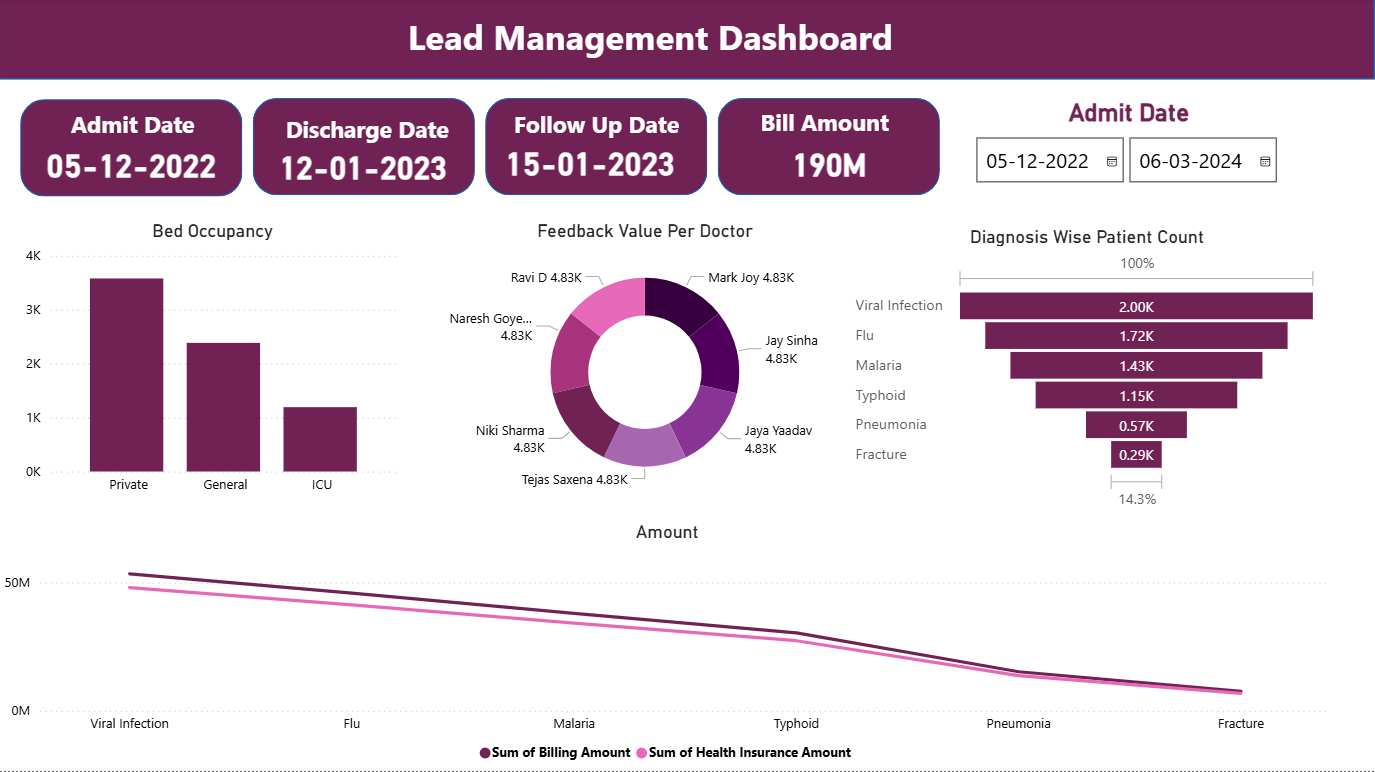

What the dashboard file says about the page in this screenshot:
{"tool":"powerbi","page":{"name":"Page 1","canvas":[1280,720],"ordinal":0},"visuals":[{"type":"shape","box":[0,0,1279.7,75.7],"z":0},{"type":"lineChart","title":"Amount","fields":{"Category":["Sheet1.Diagnosis"],"Y":["Sheet1.Billing Amount","Sheet1.Health Insurance Amount"]},"box":[0,481.1,1243.2,239.2],"z":1000},{"type":"columnChart","title":"Bed Occupancy","fields":{"Category":["Sheet1.Bed_Occupancy"],"Y":["Sheet1.Diagnosis"]},"box":[20.3,201.4,358.1,268.9],"z":2000},{"type":"donutChart","title":"Feedback Value Per Doctor","fields":{"Category":["Sheet1.Doctor"],"Y":["Sheet1.Feedback"]},"box":[410.8,201.4,381.1,268.9],"z":3000},{"type":"funnel","title":"Diagnosis Wise Patient Count","fields":{"Category":["Sheet1.Diagnosis"],"Y":["Sheet1.Diagnosis"]},"box":[791.9,212.2,440.5,268.9],"z":4000},{"type":"shape","box":[20.3,94.6,206.8,90.5],"z":5000},{"type":"shape","box":[236.5,93.2,206.8,90.5],"z":6000},{"type":"shape","box":[452.7,93.2,206.8,90.5],"z":7000},{"type":"shape","box":[668.9,93.2,206.8,90.5],"z":8000},{"type":"textbox","box":[32.6,97.7,183.7,60.5],"z":9000},{"type":"textbox","box":[241.9,102.7,201.4,51.4],"z":10000},{"type":"textbox","box":[460.5,97.7,190.7,45.3],"z":11000},{"type":"textbox","box":[672.1,95.3,191.9,43],"z":12000},{"type":"card","fields":{"Values":["Sheet1.Admit_Date"]},"box":[30.2,132.6,186,44.2],"z":13000},{"type":"card","fields":{"Values":["Sheet1.Followup Date"]},"box":[452.3,132.6,195.3,40.7],"z":14000},{"type":"card","fields":{"Values":["Sheet1.Billing Amount"]},"box":[672.5,132.4,200.7,43.2],"z":15000},{"type":"card","fields":{"Values":["Sheet1.Discharge_Date"]},"box":[248.8,138.4,180.2,37.2],"z":16000},{"type":"slicer","title":"Admit Date","fields":{"Values":["Sheet1.Admit_Date"]},"box":[895.9,93.2,309.5,90.5],"z":17000},{"type":"textbox","box":[200,9.5,812.2,55.4],"z":18000}]}

Visuals, with their boxes in screenshot pixels (x1, y1, x2, y2), scaled from the page's 1280x720 canvas onto the 1375x772 screenshot:
shape: (0, 0, 1374, 81)
"Amount" lineChart: (0, 516, 1335, 771)
"Bed Occupancy" columnChart: (22, 216, 406, 504)
"Feedback Value Per Doctor" donutChart: (441, 216, 851, 504)
"Diagnosis Wise Patient Count" funnel: (851, 228, 1324, 516)
shape: (22, 101, 244, 198)
shape: (254, 100, 476, 197)
shape: (486, 100, 708, 197)
shape: (719, 100, 941, 197)
textbox: (35, 105, 232, 170)
textbox: (260, 110, 476, 165)
textbox: (495, 105, 700, 153)
textbox: (722, 102, 928, 148)
card - Sheet1.Admit_Date: (32, 142, 232, 190)
card - Sheet1.Followup Date: (486, 142, 696, 186)
card - Sheet1.Billing Amount: (722, 142, 938, 188)
card - Sheet1.Discharge_Date: (267, 148, 461, 188)
"Admit Date" slicer: (962, 100, 1295, 197)
textbox: (215, 10, 1087, 70)
